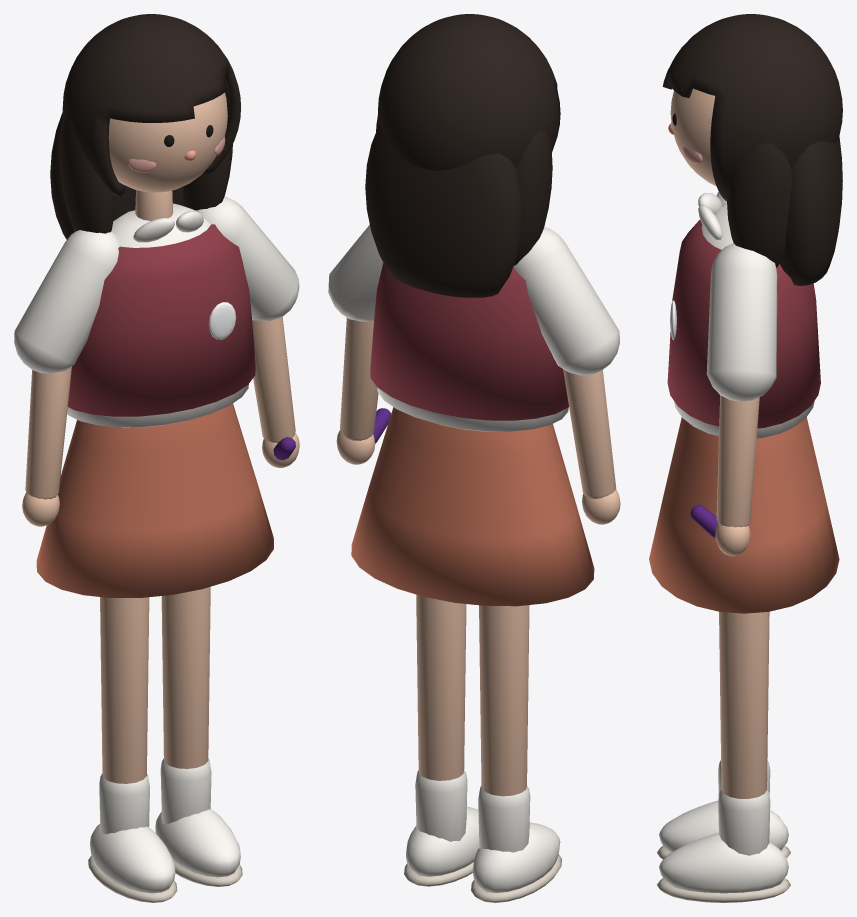
Rendered from Funcionario_Mujer.fbx.
3 views of the same model, side by side, from view 1: azimuth 30°, elevation 25°; view 2: azimuth 150°, elevation 25°; view 3: azimuth 270°, elevation 25° (orthographic). The views are drawn at different scales.
Parts seen in each view (by area): view 1: Funcionario_Mujer; view 2: Funcionario_Mujer; view 3: Funcionario_Mujer.
Part boxes in pixels (x1,y1,x2,y2): Funcionario_Mujer: (14, 14, 299, 902); Funcionario_Mujer: (328, 14, 620, 902); Funcionario_Mujer: (649, 14, 842, 902).
Bounding box in the file's own units: 0.5576 × 1.63 × 0.3345.
